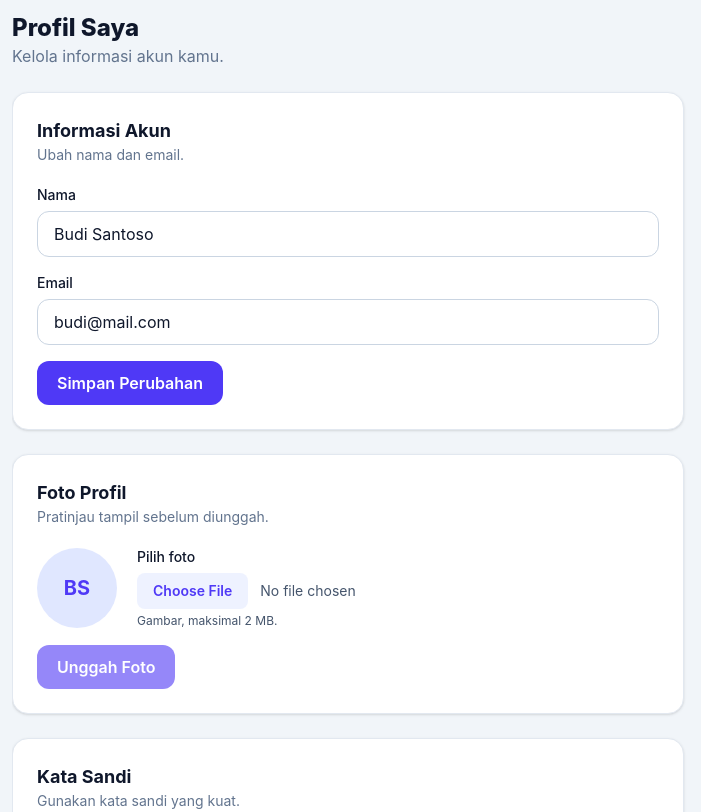
ProfilePage › form informasi akun › menampilkan validasi jika nama dan email kosong
The image size is (701, 812).
Clear the field labelled "Nama" at coordinates (348, 234), box [37,211,659,257]
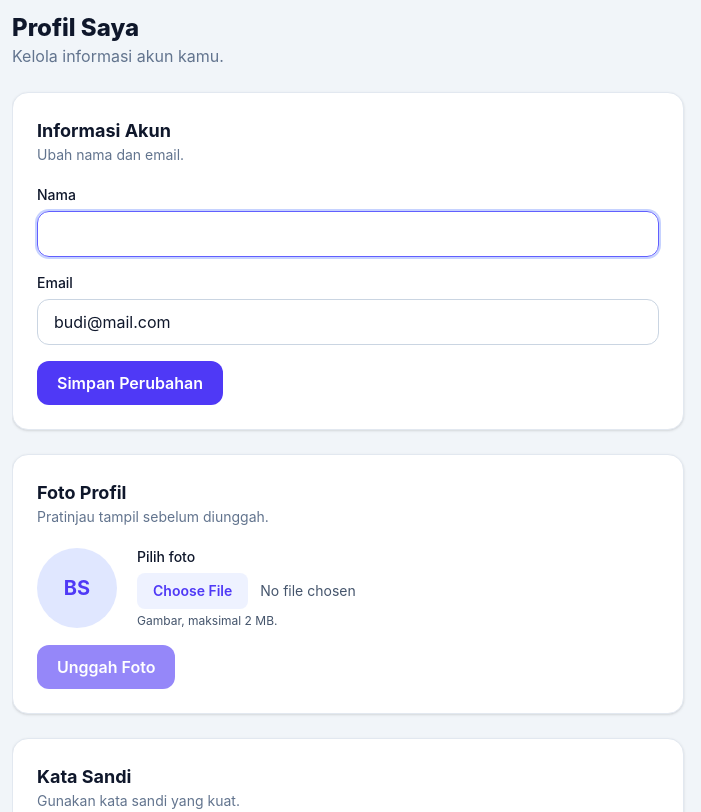
Clear the field labelled "Email" at coordinates (348, 322), box [37,299,659,345]
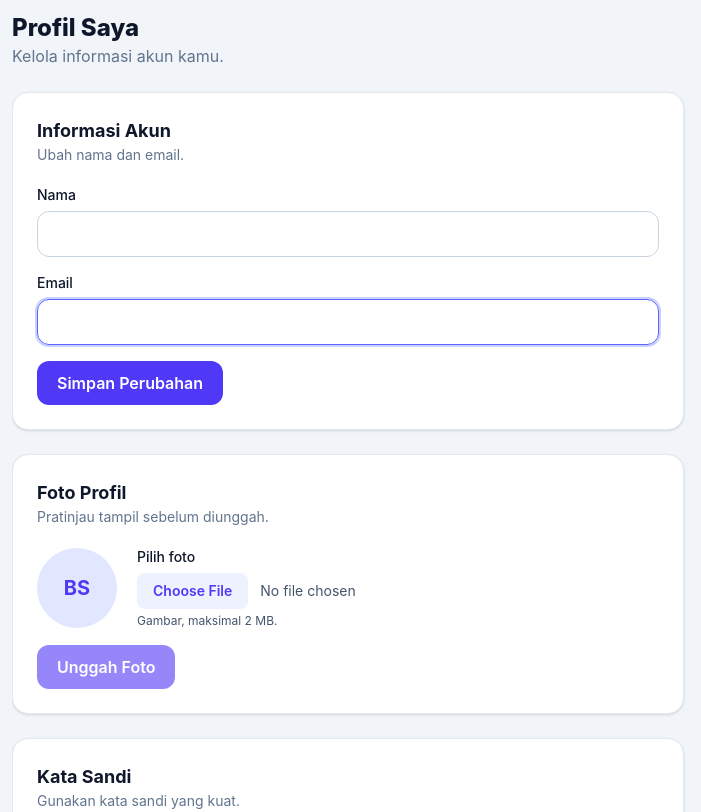
Click the button "Simpan Perubahan".
click(130, 383)  # box [37,361,223,405]
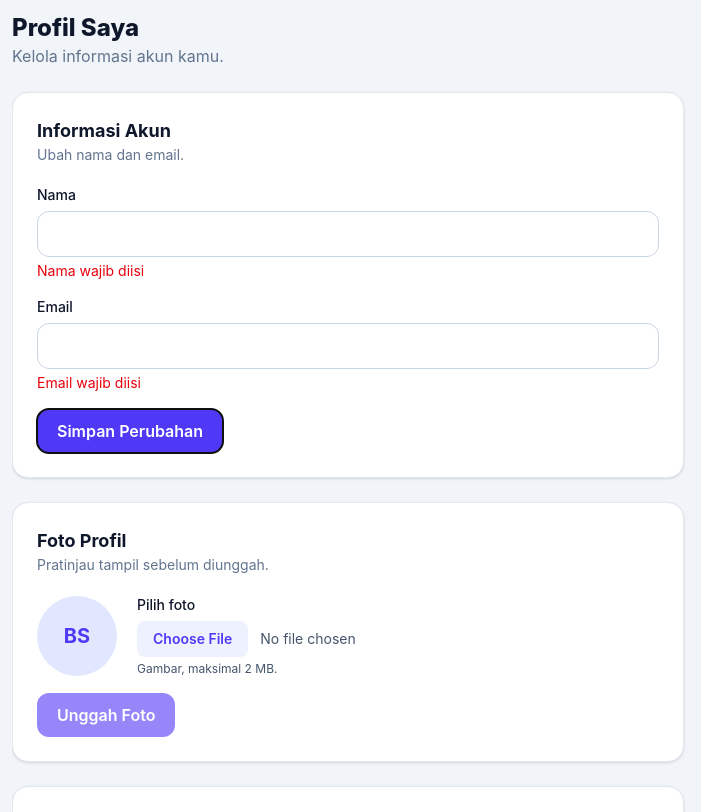
Expected: the text "Nama wajib diisi" is shown, [37,262,144,279]
Expected: the text "Email wajib diisi" is shown, [37,374,141,391]
